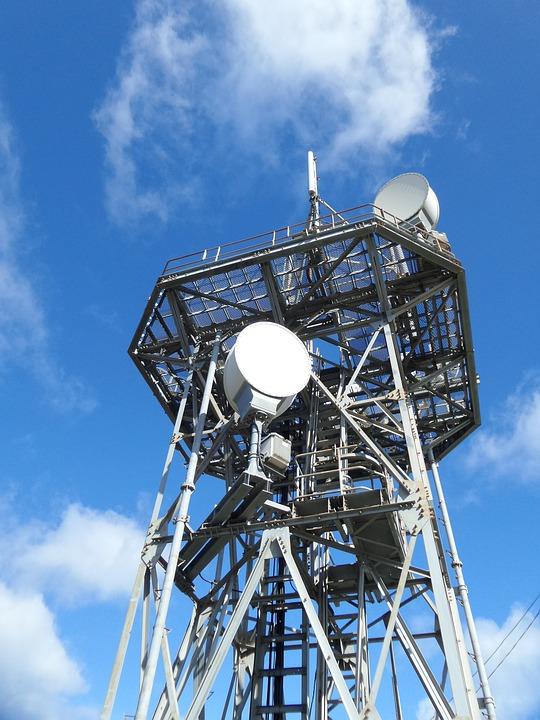a: (307, 152, 321, 221)
b: (219, 321, 319, 427), (374, 178, 442, 232)
